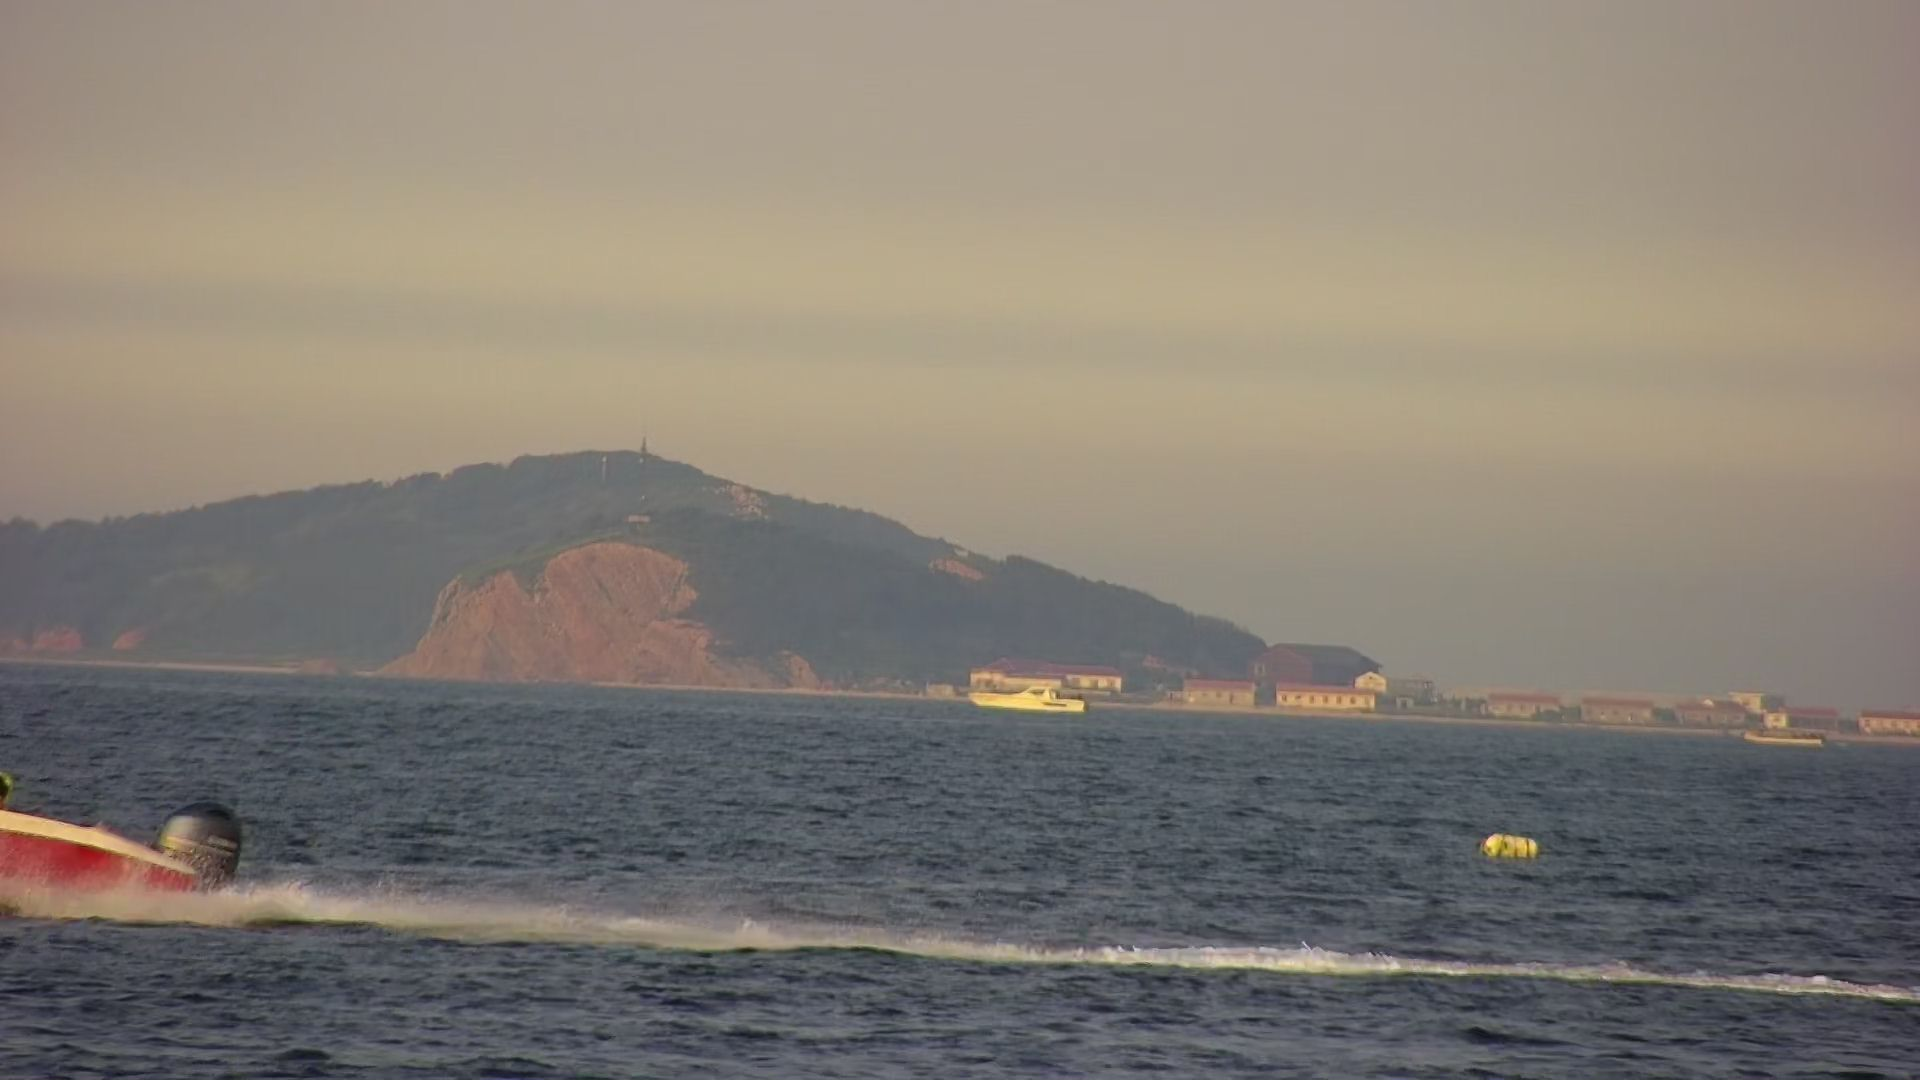boat: (1, 771, 262, 938), (960, 679, 1096, 724)
rubbish: (1472, 820, 1545, 862)
